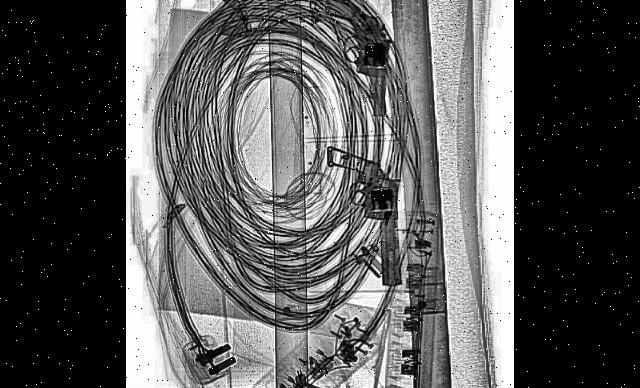Gun: (328, 144, 402, 288), (319, 0, 392, 120)
